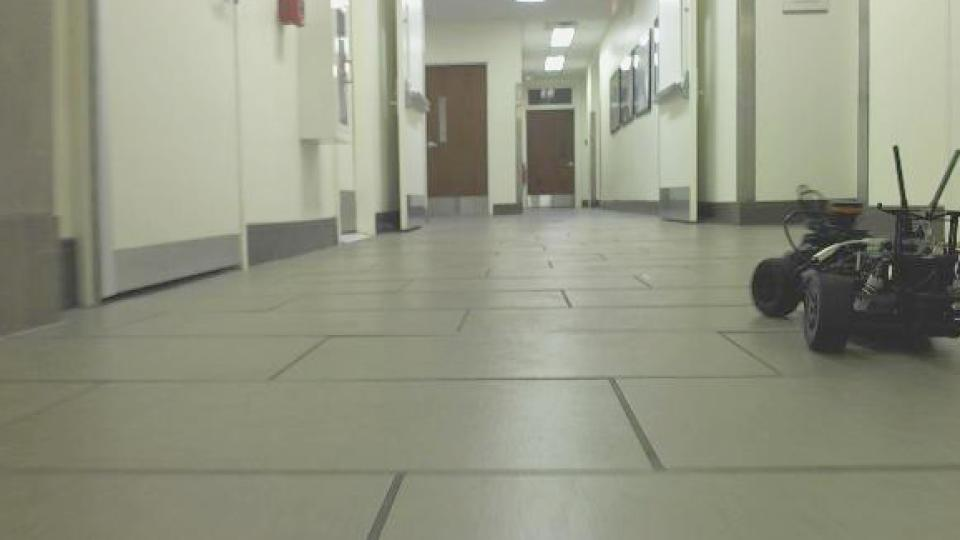car: (745, 141, 960, 358)
